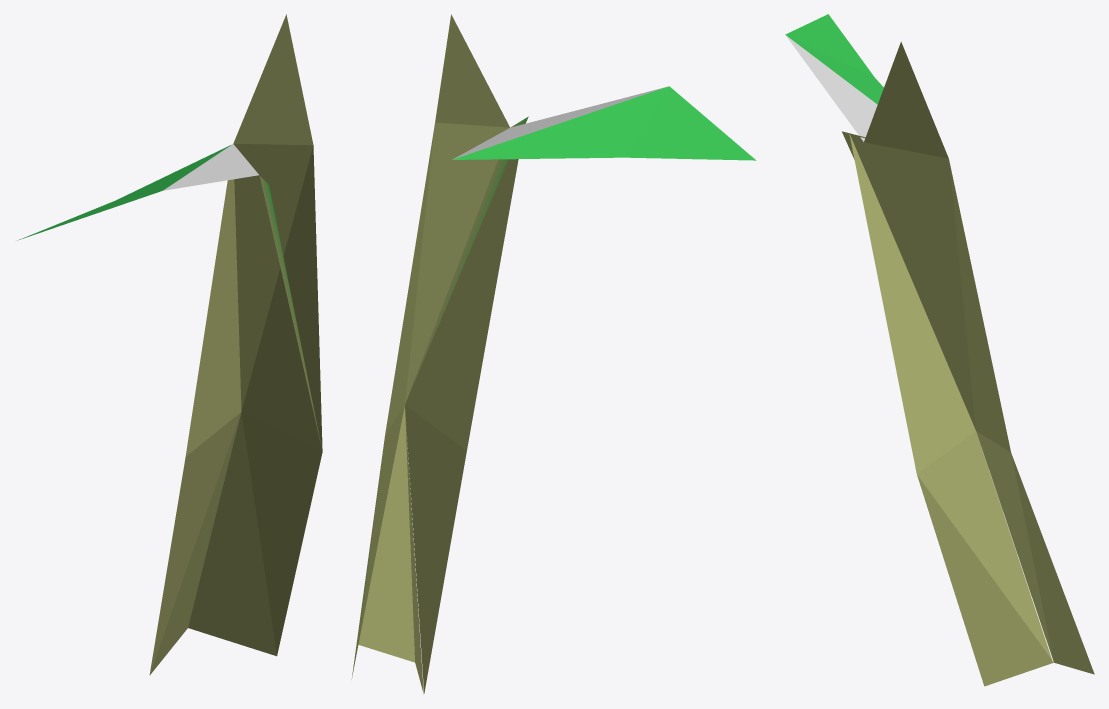
The picture shows the model from 3 angles, left to right: view 1: azimuth 30°, elevation 25°; view 2: azimuth 150°, elevation 25°; view 3: azimuth 270°, elevation 25°; orthographic projection. The views are drawn at different scales.
Visible parts, largest first — view 1: PolyMesh; view 2: PolyMesh; view 3: PolyMesh.
Boxes of the visible parts, <box> form: PolyMesh: <box>17,14,322,675</box>; PolyMesh: <box>351,14,756,694</box>; PolyMesh: <box>785,14,1094,686</box>.
Bounding box in the file's own units: 0.3297 × 0.6229 × 0.2701.
